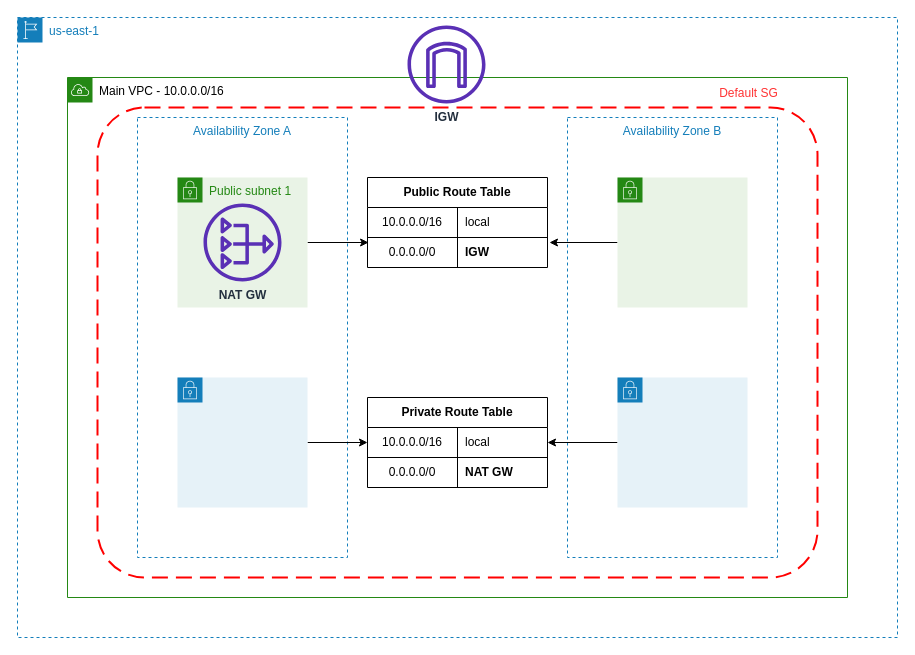
This 915x655 diagram has some shape labels left out. Each missing label, with the centre of its shape:
Private subnet 1: point 242,442
Private subnet 2: point 682,442
Public subnet 2: point 682,242
